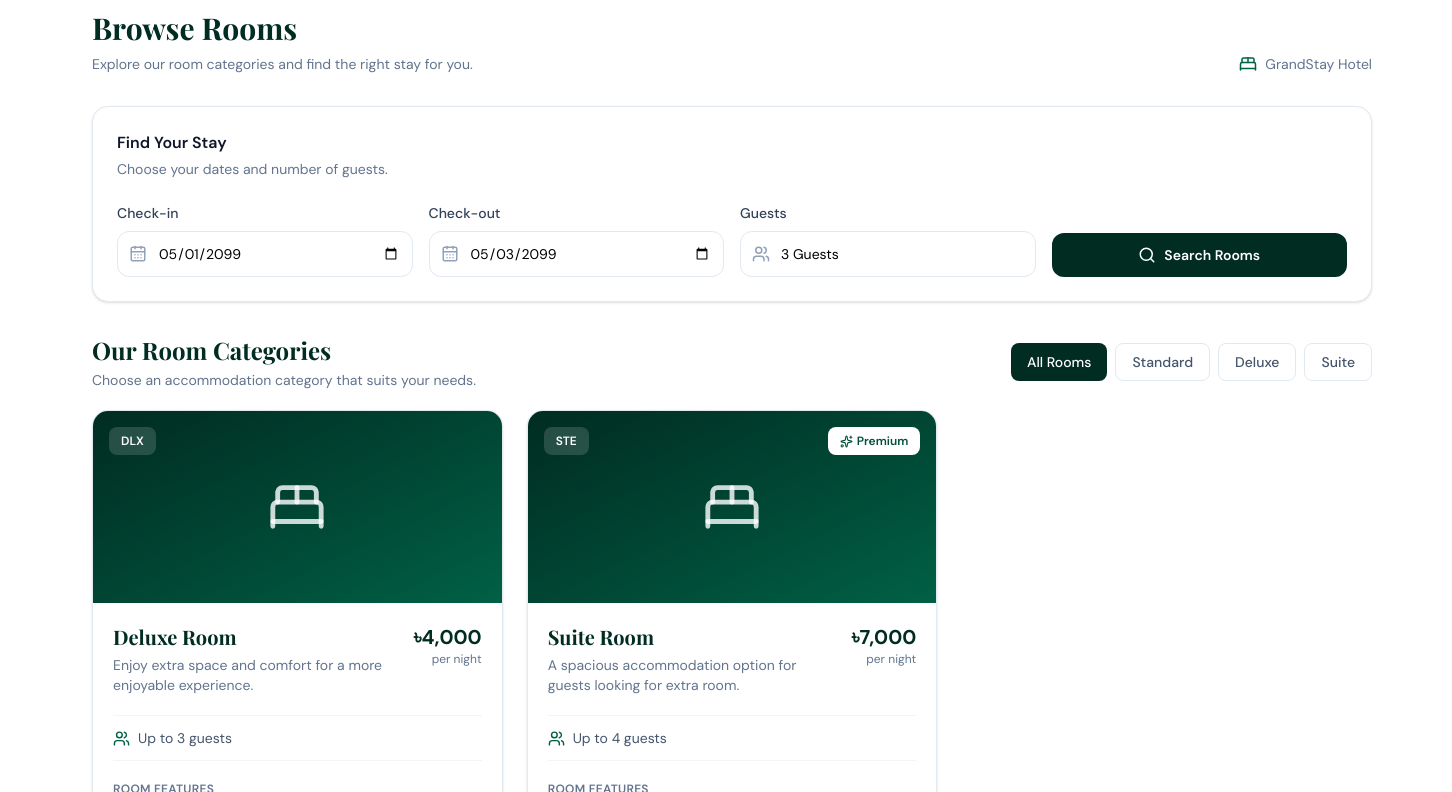
Test: App › restores and updates public room-search criteria in the URL
Expected: the date field labelled "Check-in" holds "2099-05-01", [117,231,412,277]
Expected: the date field labelled "Check-out" holds "2099-05-03", [428,231,724,277]
Select "4 Guests" in the dropdown labelled "Guests" at (888, 254), box [740,231,1036,277]
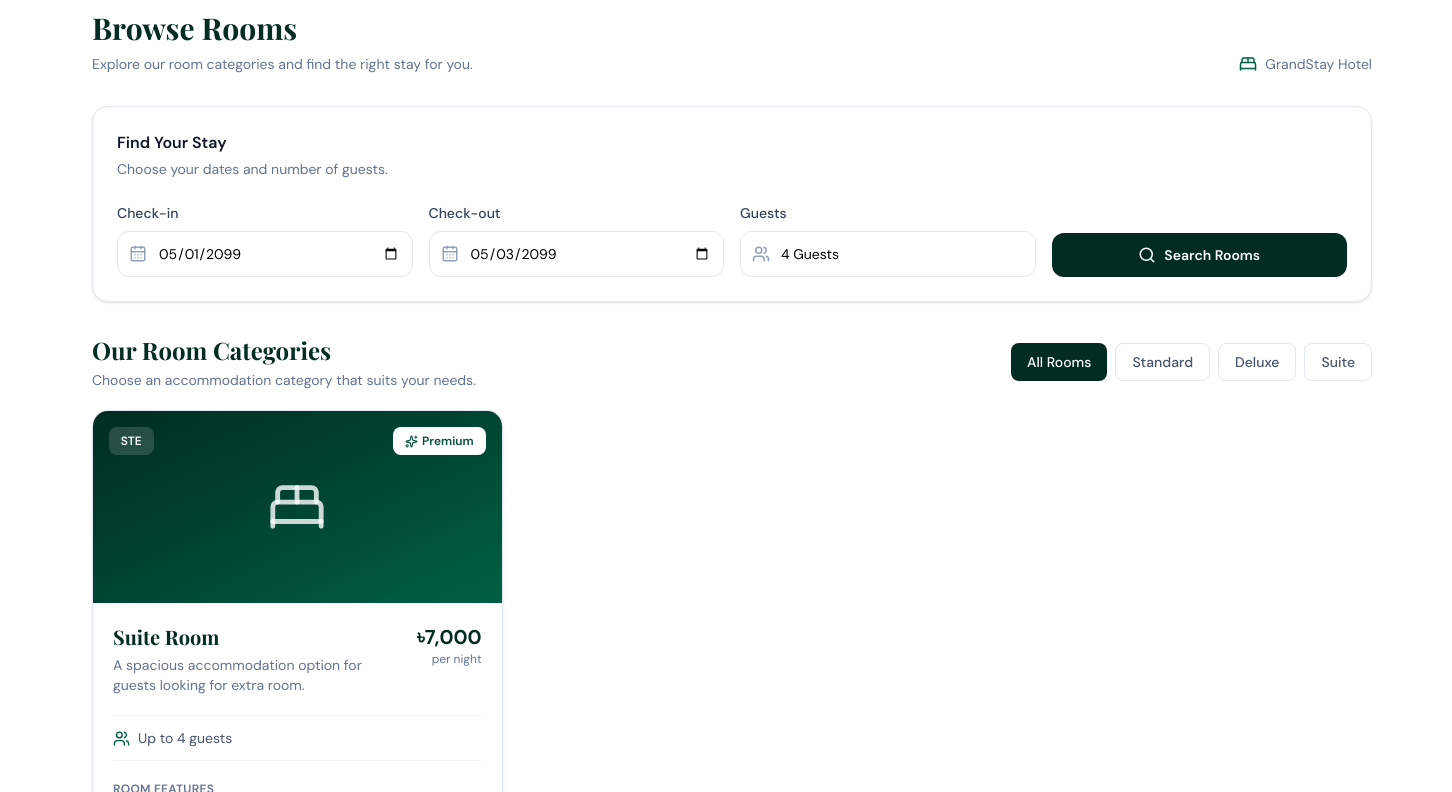
Click the button "Search Rooms" at (1199, 255), box [1052,233,1347,277]
(page scrolled)
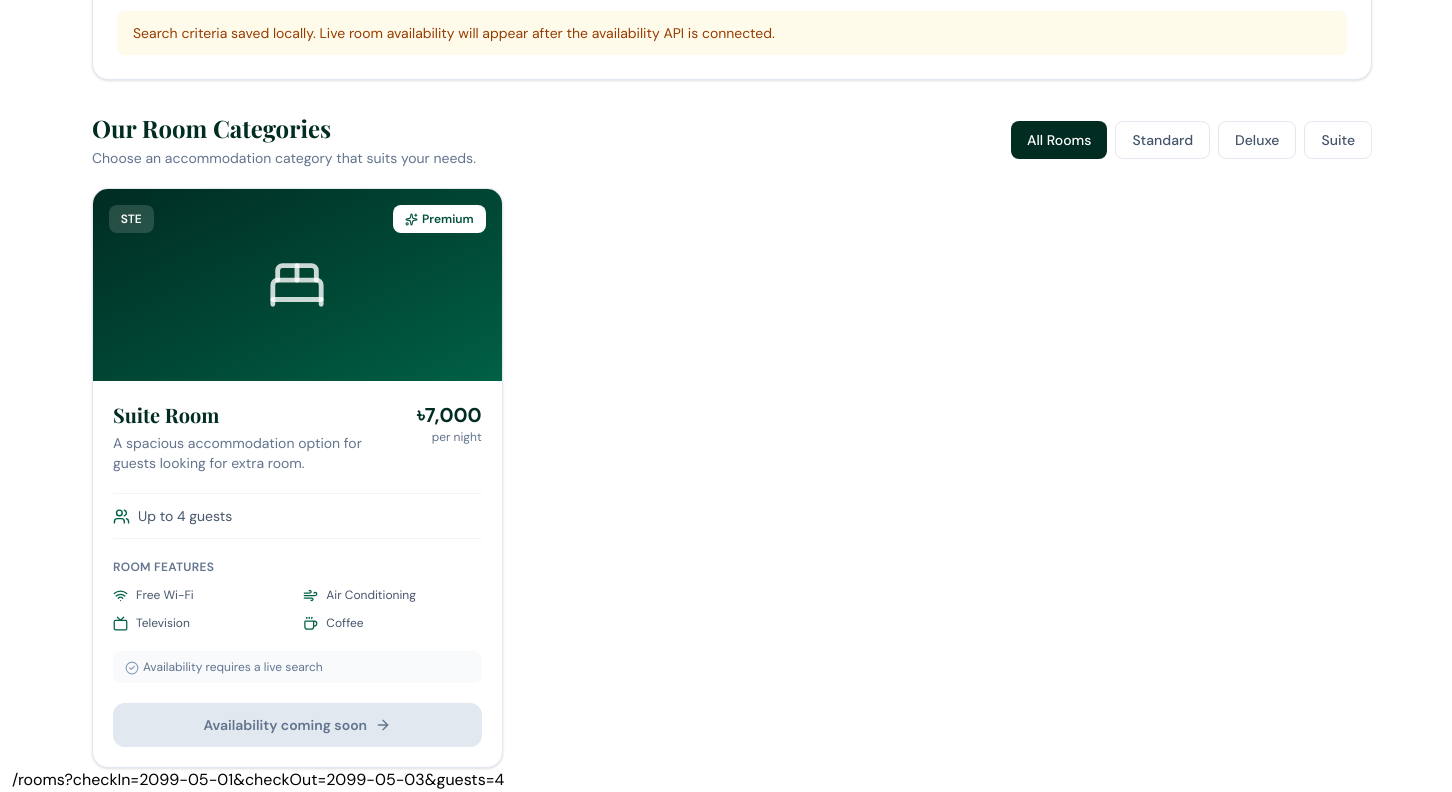
Expected: the text with test id "current-url" reads "/rooms?checkIn=2099-05-01&checkOut=2099-05-03&guests=4", [12,769,504,790]
